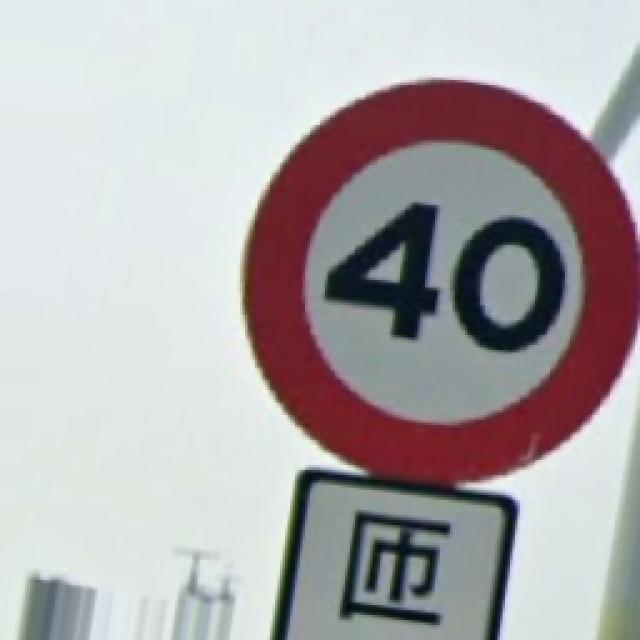Speed Limit -40-: (245, 82, 635, 482)
